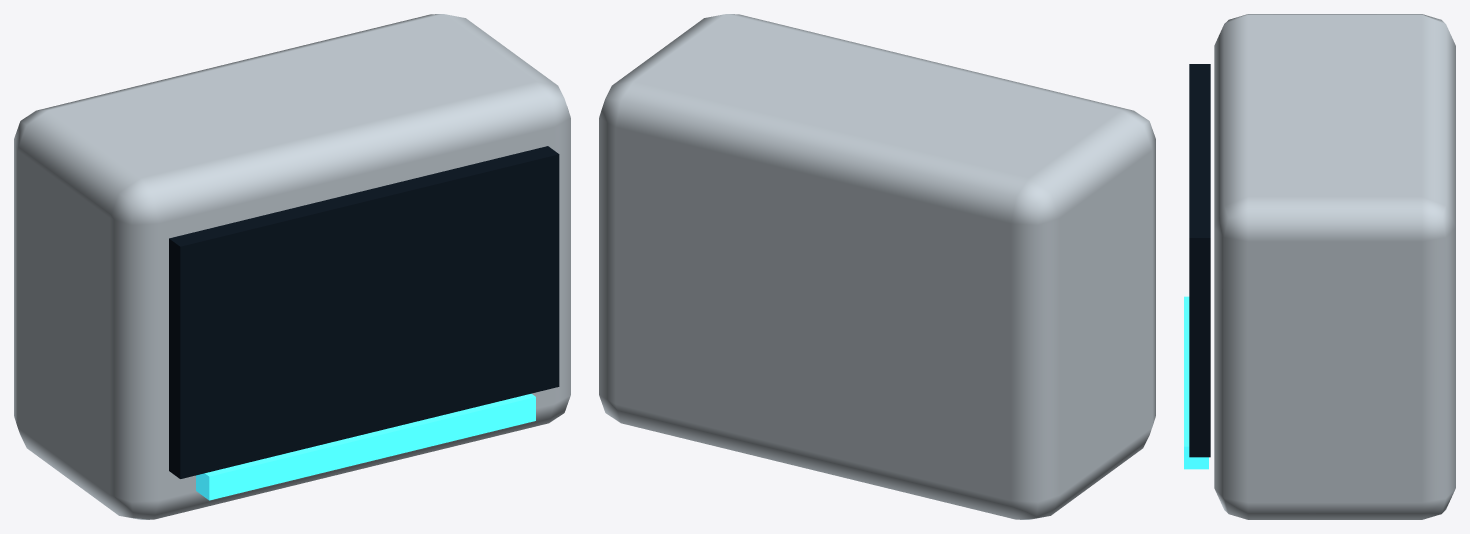
File: token-capsule.glb
3 views of the same model, side by side, from view 1: azimuth 30°, elevation 25°; view 2: azimuth 150°, elevation 25°; view 3: azimuth 270°, elevation 25° (orthographic). The views are drawn at different scales.
Visible parts, largest first — view 1: body, text_face, position_band; view 2: body; view 3: body, text_face, position_band.
Part boxes in pixels (box(x1,y1,x2,y2)): body: box(14, 14, 570, 519); text_face: box(169, 146, 559, 478); position_band: box(196, 393, 535, 500); body: box(599, 14, 1155, 519); body: box(1214, 14, 1455, 519); text_face: box(1189, 64, 1210, 457); position_band: box(1184, 296, 1208, 469).
Size of the model in its own units: 0.7 by 0.5 by 0.3825.
